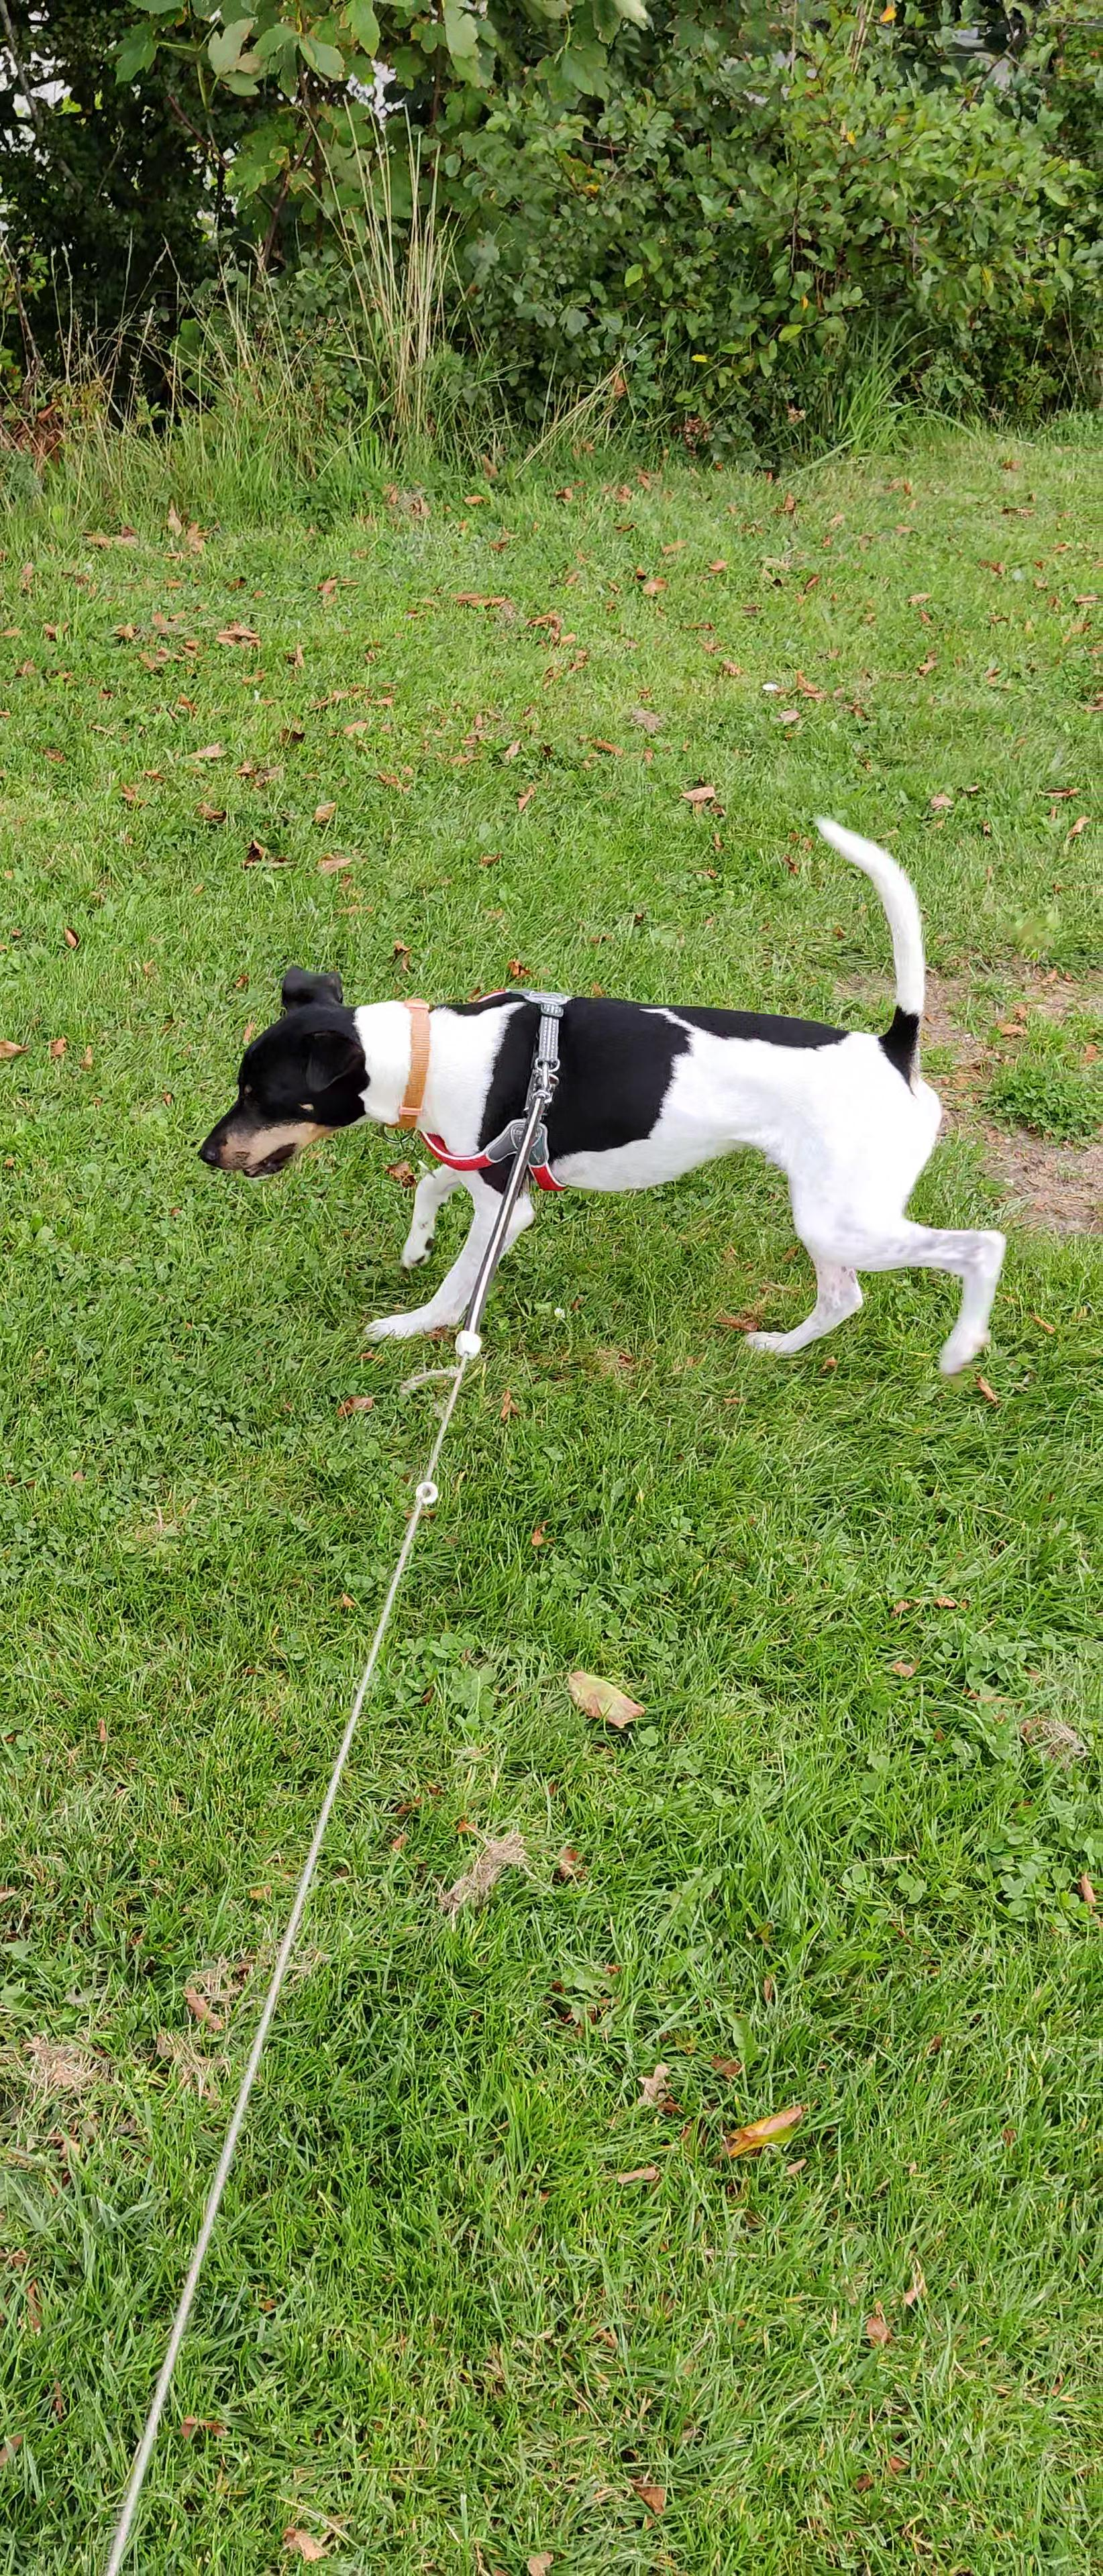Dog: (197, 810, 1011, 1380)
